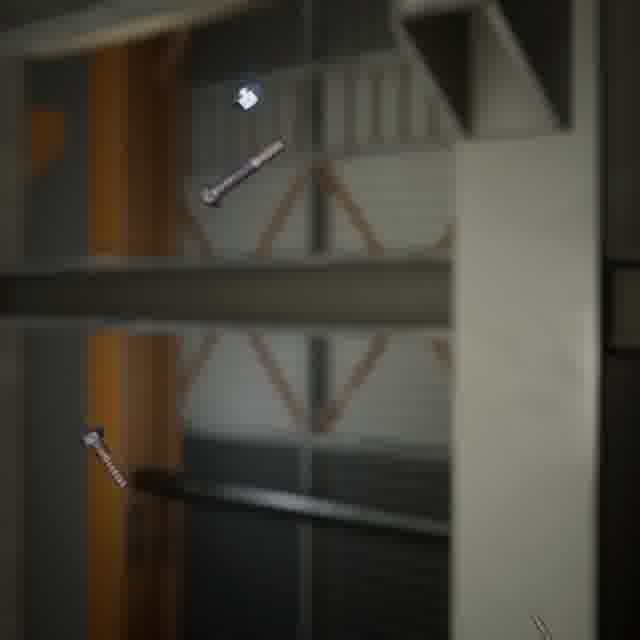bolt: (194, 133, 290, 213), (74, 420, 132, 493), (524, 603, 558, 640)
nut: (228, 77, 268, 114)
